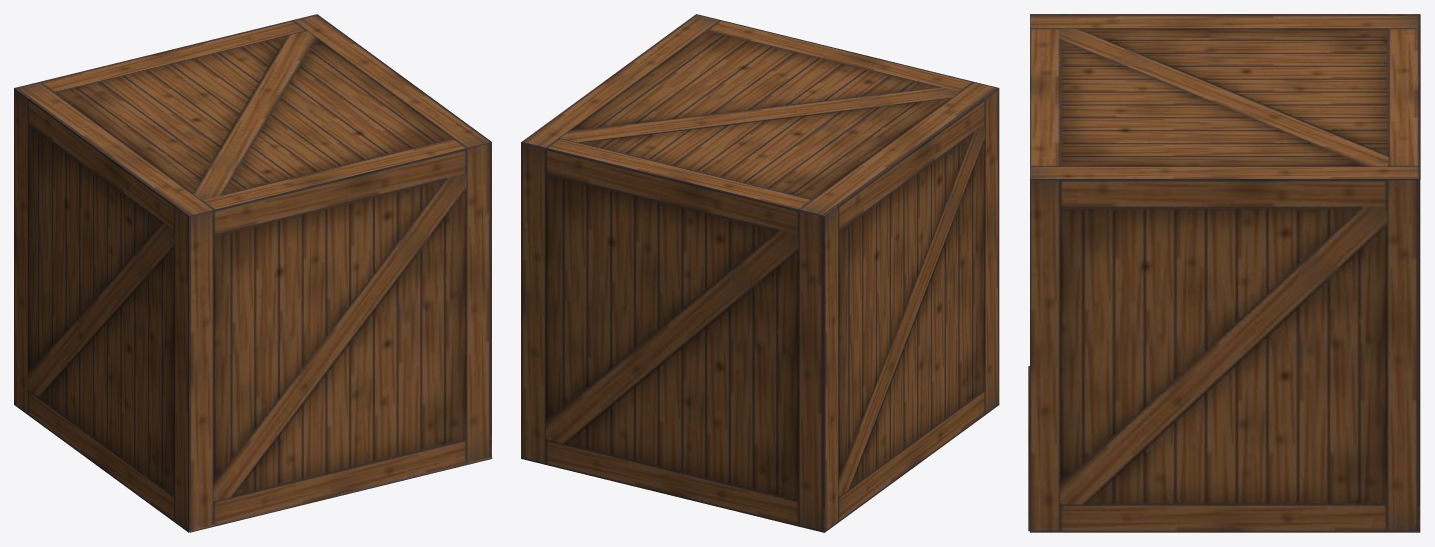
Rendered from crate.glb.
3 views of the same model, side by side, from view 1: azimuth 30°, elevation 25°; view 2: azimuth 150°, elevation 25°; view 3: azimuth 270°, elevation 25° (orthographic). The views are drawn at different scales.
Parts seen in each view (by area): view 1: crate; view 2: crate; view 3: crate.
Boxes of the visible parts, bbox=[...] form: crate: bbox=[14, 14, 492, 532]; crate: bbox=[521, 14, 999, 532]; crate: bbox=[1028, 14, 1420, 532].
Size of the model in its own units: 50.09 by 50 by 50.25.
6 materials, 6 textured.
